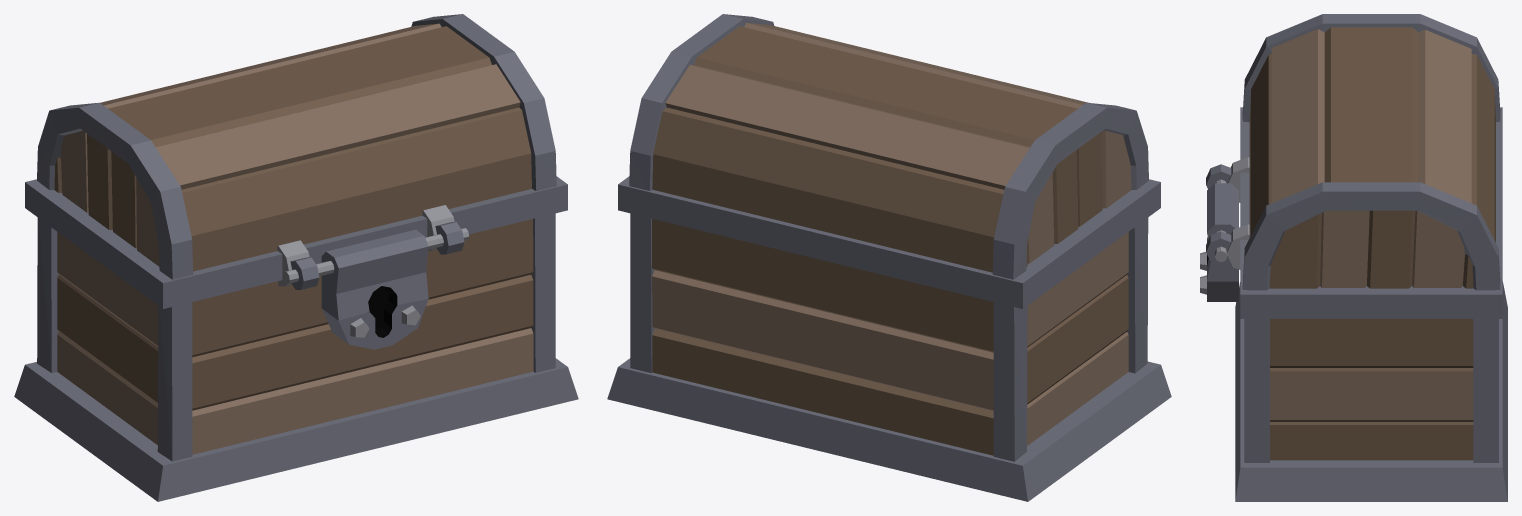
File: _trunk_1.fbx
The picture shows the model from 3 angles, left to right: view 1: azimuth 30°, elevation 25°; view 2: azimuth 150°, elevation 25°; view 3: azimuth 270°, elevation 25°; orthographic projection. The views are drawn at different scales.
Visible parts, largest first — view 1: trunk_1; view 2: trunk_1; view 3: trunk_1.
Boxes of the visible parts, x1=… form: trunk_1: x1=14, y1=14, x2=578, y2=501; trunk_1: x1=607, y1=14, x2=1171, y2=501; trunk_1: x1=1200, y1=14, x2=1507, y2=501.
Bounding box in the file's own units: 98.8 × 71.39 × 65.95.
